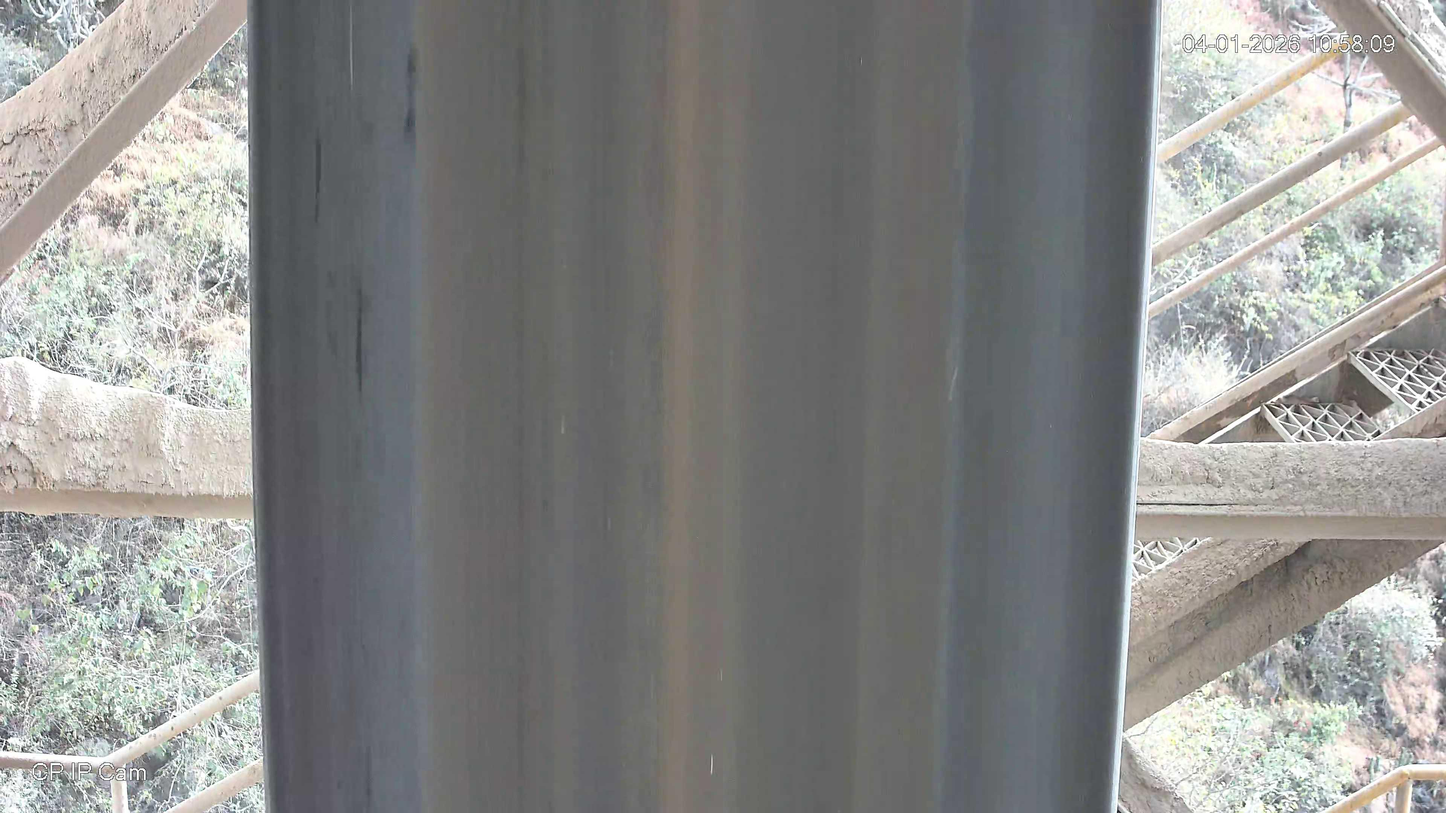belt_roi: (243, 0, 1162, 813)
